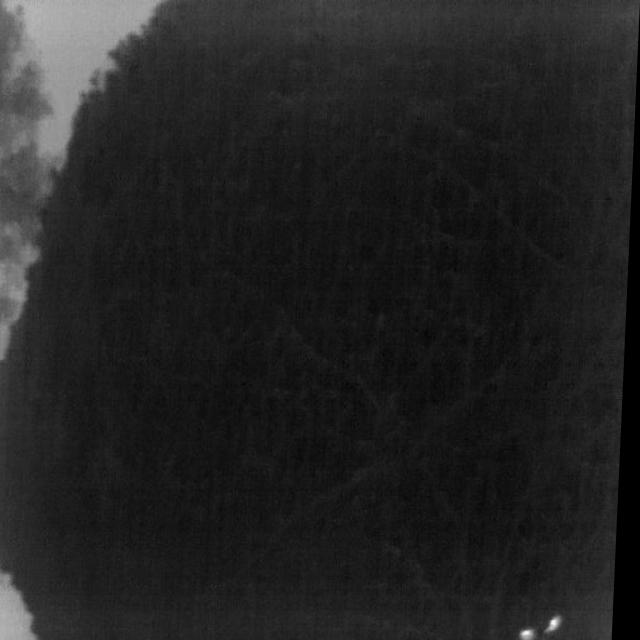deer: (550, 616, 569, 634), (525, 629, 544, 640)
